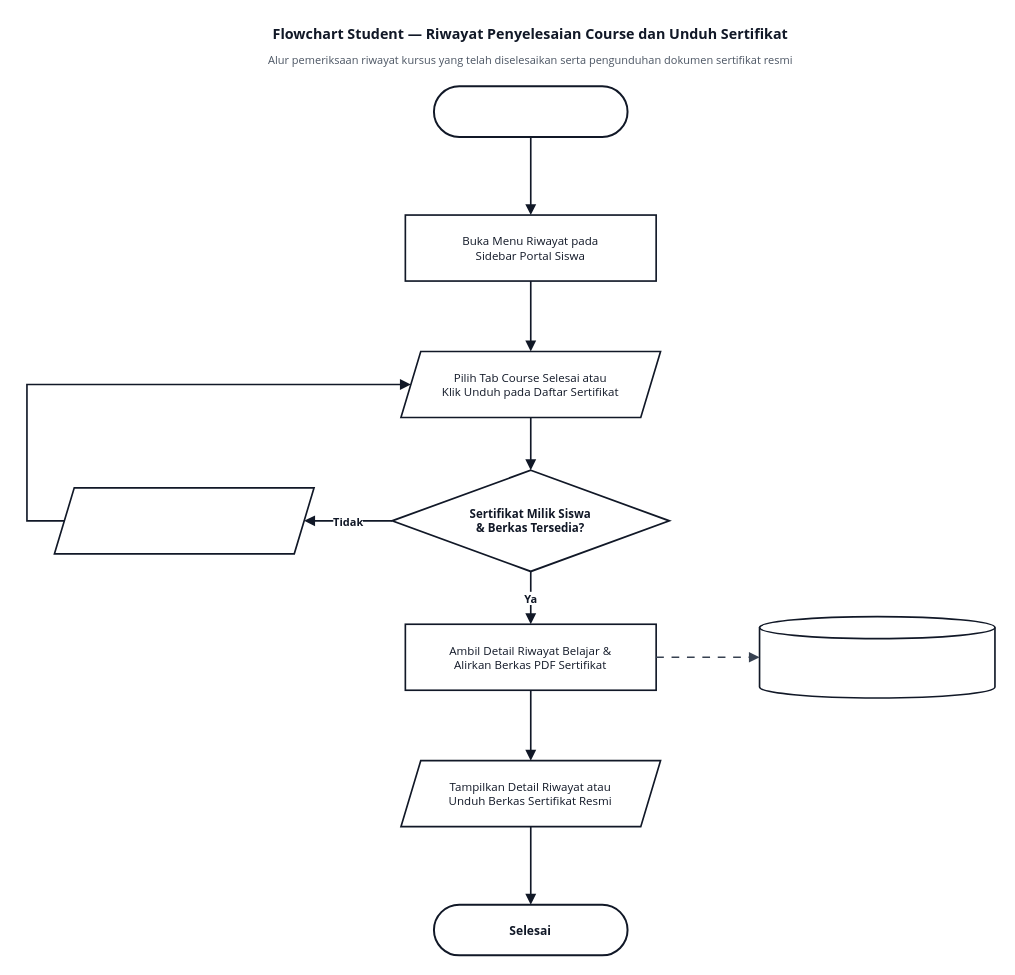
The diagram is 1015 pixels wide and 975 high, and some of its shapes have lost their labels. Each missing label, with the centre of its shape:
"Mulai" belongs at point 530,111.
"MySQL & SQL Server: course_enrollments & student_certificates" belongs at point 876,656.
"Tampilkan Pesan Dokumen Belum Tersedia" belongs at point 183,520.
